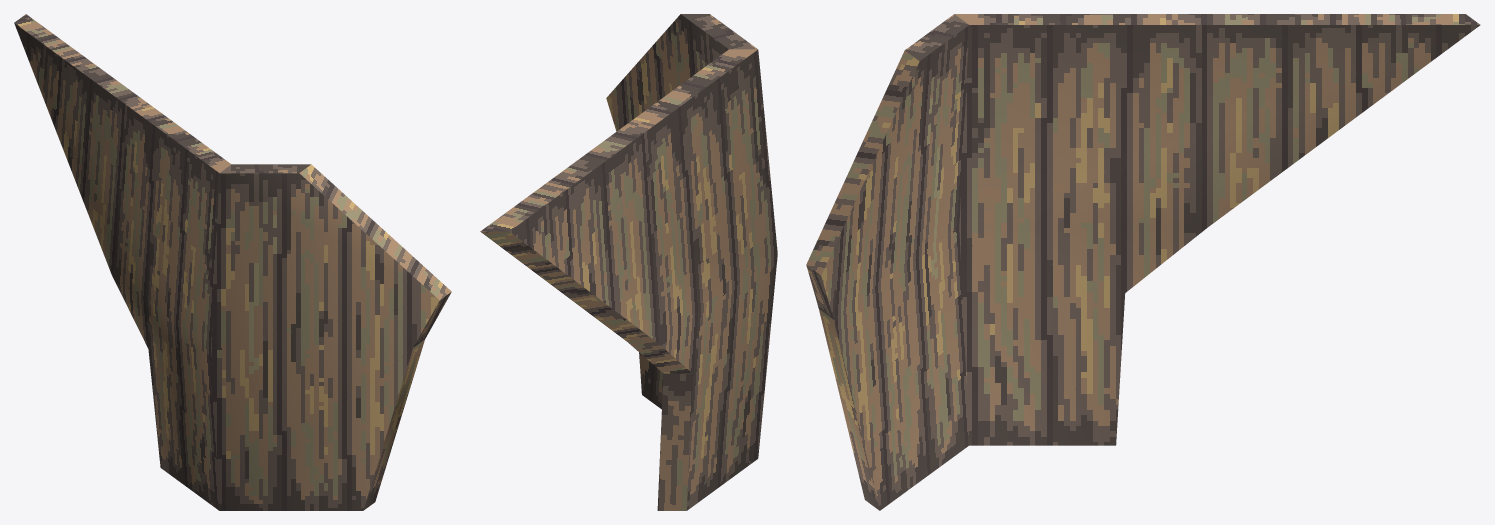
Rendered from barrel_gib_04.glb.
3 views of the same model, side by side, from view 1: azimuth 30°, elevation 25°; view 2: azimuth 150°, elevation 25°; view 3: azimuth 270°, elevation 25° (orthographic). The views are drawn at different scales.
Parts seen in each view (by area): view 1: gib#1; view 2: gib#1; view 3: gib#1.
Boxes of the visible parts, box(x1,y1,x2,y2) form: gib#1: box(14, 14, 451, 510); gib#1: box(480, 14, 777, 510); gib#1: box(806, 14, 1480, 510).
Bounding box in the file's own units: 0.4674 × 0.7897 × 1.15.
Materials: 1 (1 with a texture image).
